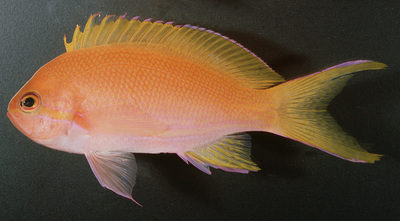fish: (6, 10, 388, 207)
